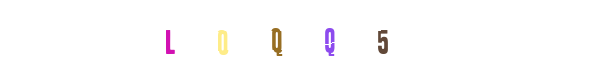0: (198, 0, 278, 80)
5: (287, 0, 367, 80)
L: (128, 0, 208, 80)
Q: (257, 0, 337, 80), (287, 0, 367, 80)
